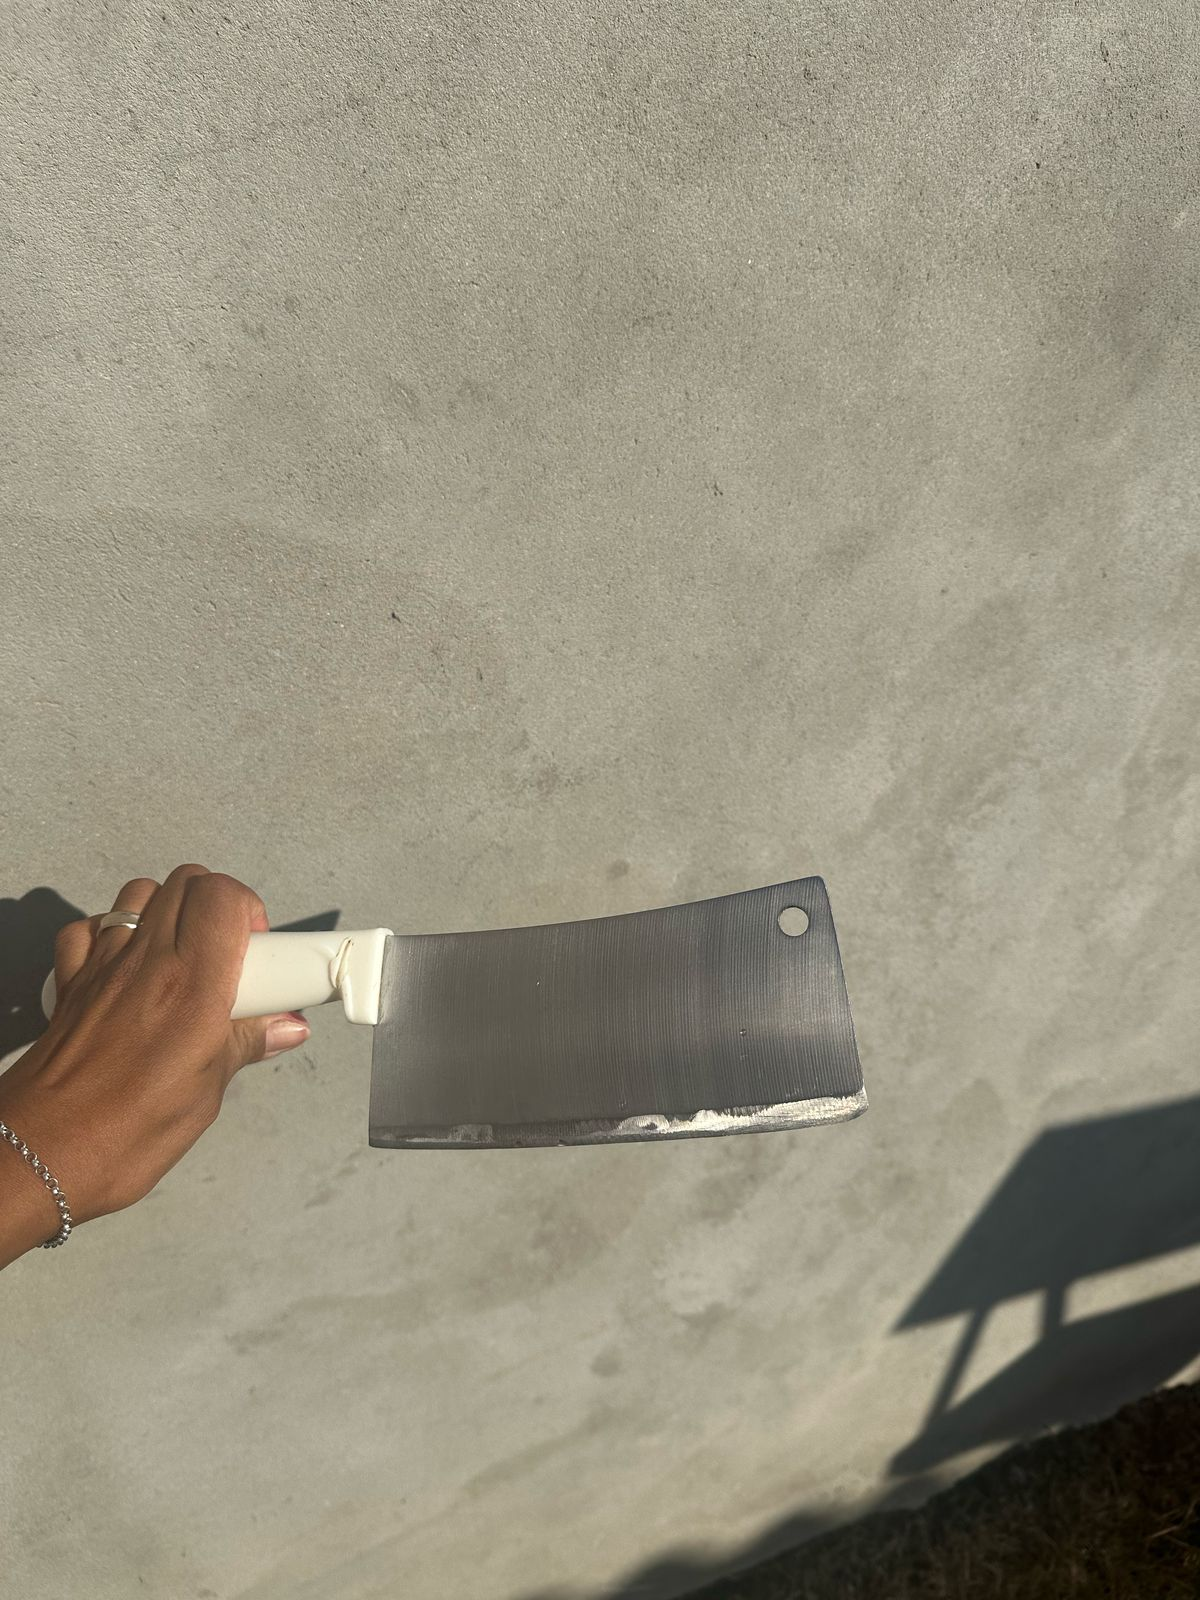faca: (316, 839, 887, 1159)
